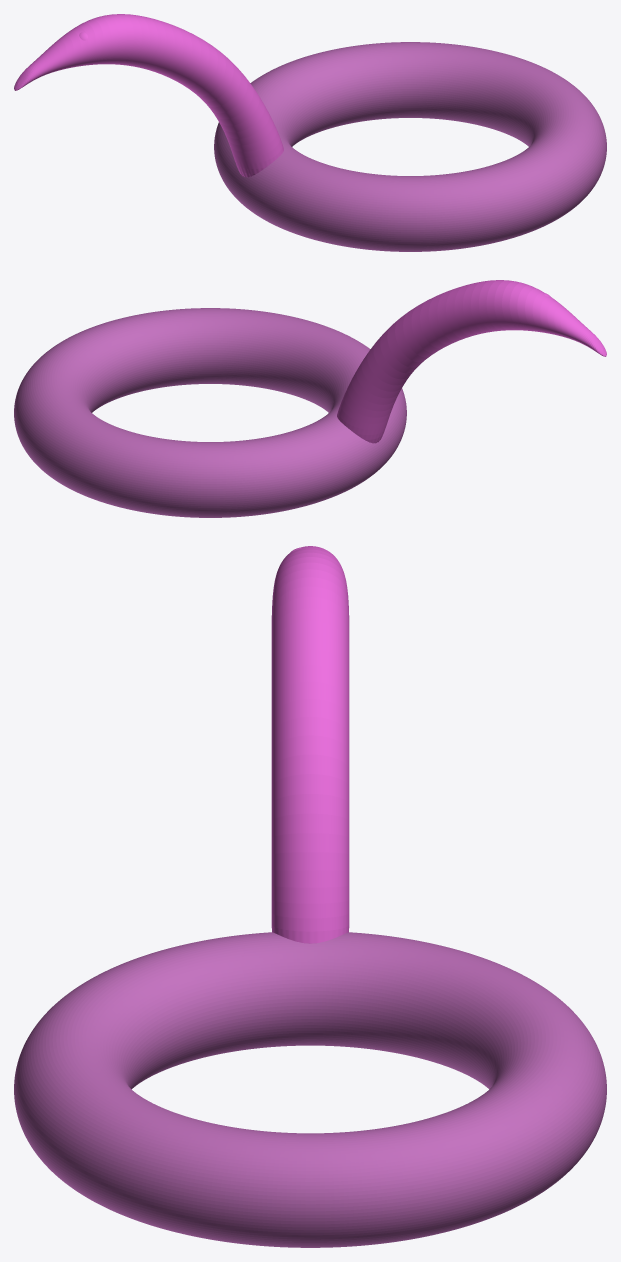
File: float.fbx
3 views of the same model, one above another, from view 1: azimuth 30°, elevation 25°; view 2: azimuth 150°, elevation 25°; view 3: azimuth 270°, elevation 25° (orthographic). The views are drawn at different scales.
Parts seen in each view (by area): view 1: Torus, Cylinder; view 2: Torus, Cylinder; view 3: Torus, Cylinder.
Part boxes in pixels (<box>): Torus: <box>214,42,606,251</box>; Cylinder: <box>14,14,283,177</box>; Torus: <box>14,308,406,517</box>; Cylinder: <box>337,280,606,443</box>; Torus: <box>14,932,606,1247</box>; Cylinder: <box>271,546,349,943</box>.
Size of the model in its own units: 411 by 165 by 247.
